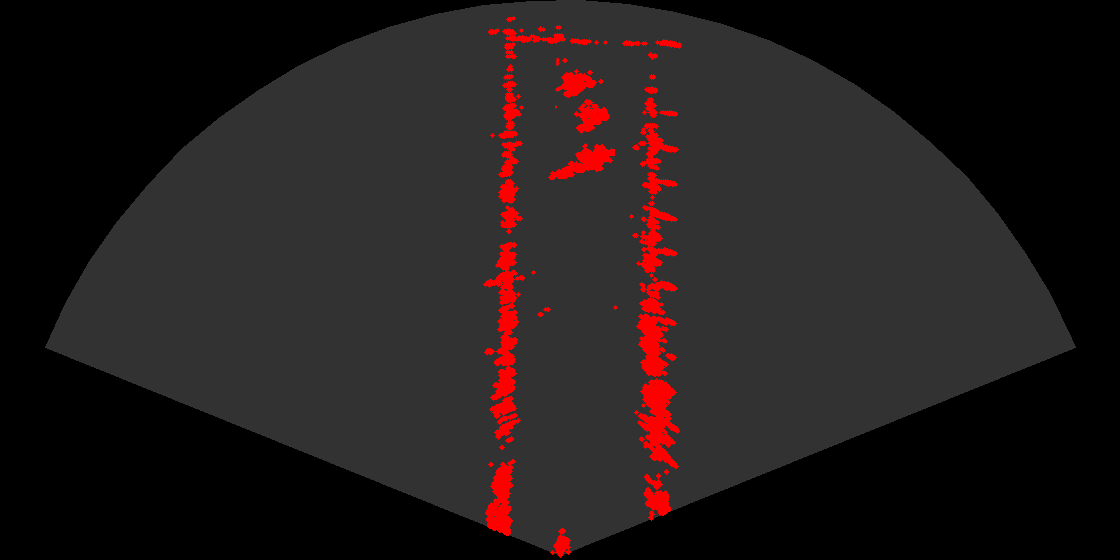cage: (555, 58, 618, 142)
frogman: (547, 137, 615, 184)
